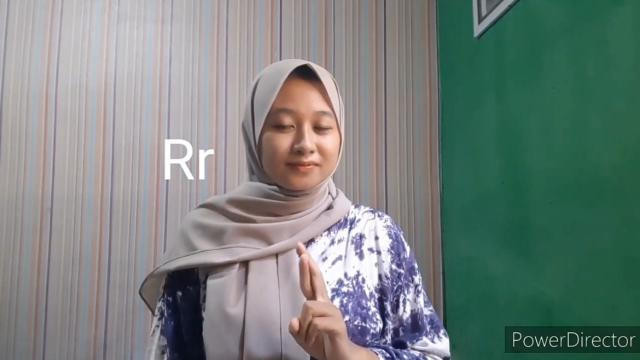R: (282, 239, 354, 360)
